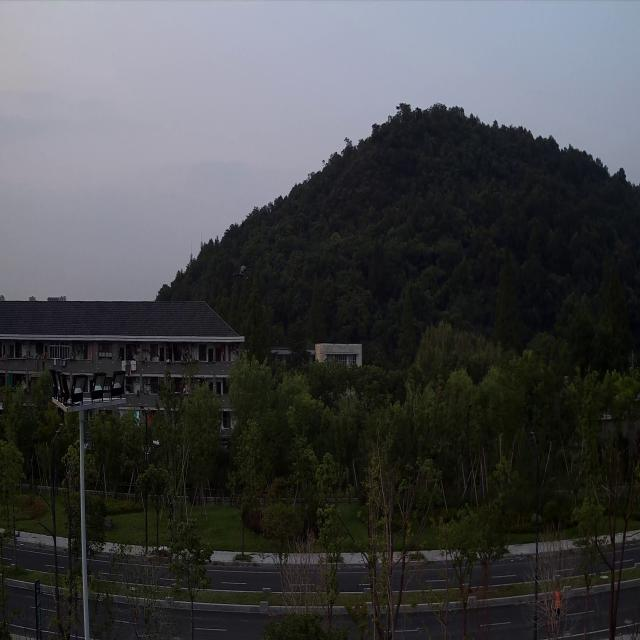UAV: (232, 262, 252, 281)
